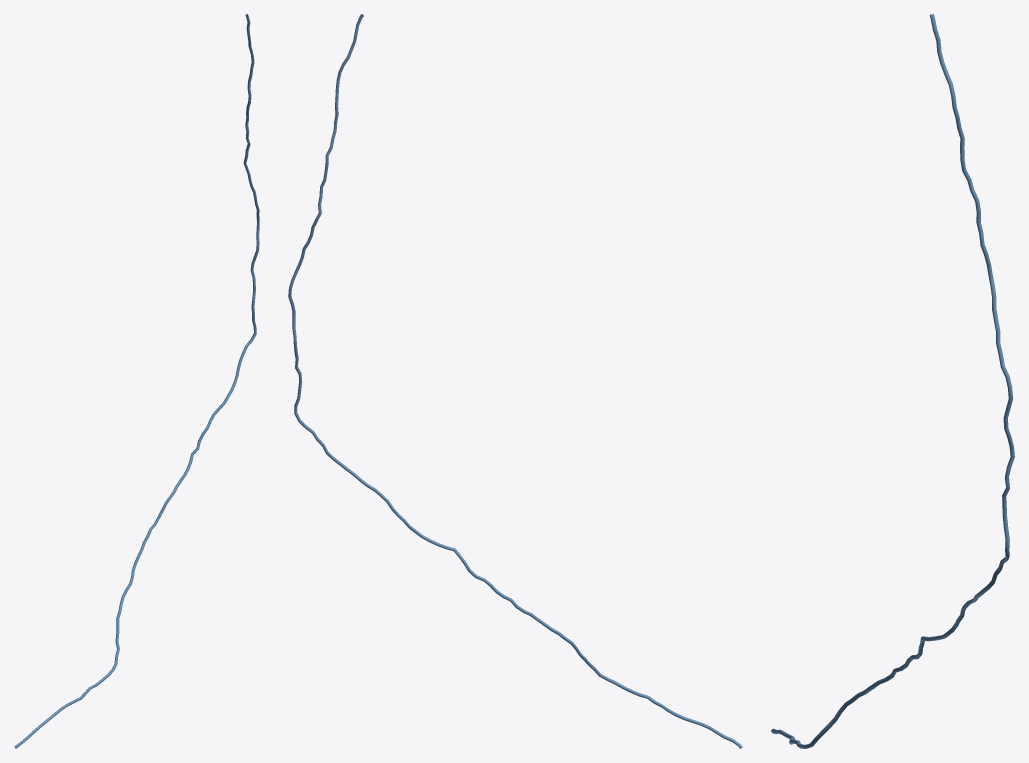
Rendered from sweep128.fbx.
The picture shows the model from 3 angles, left to right: view 1: azimuth 30°, elevation 25°; view 2: azimuth 150°, elevation 25°; view 3: azimuth 270°, elevation 25°; orthographic projection. The views are drawn at different scales.
Parts seen in each view (by area): view 1: sweep128; view 2: sweep128; view 3: sweep128.
Boxes of the visible parts, <box> form: sweep128: <box>14,14,259,748</box>; sweep128: <box>288,14,742,748</box>; sweep128: <box>771,14,1014,748</box>.
Size of the model in its own units: 2.52 by 4.63 by 1.11.
